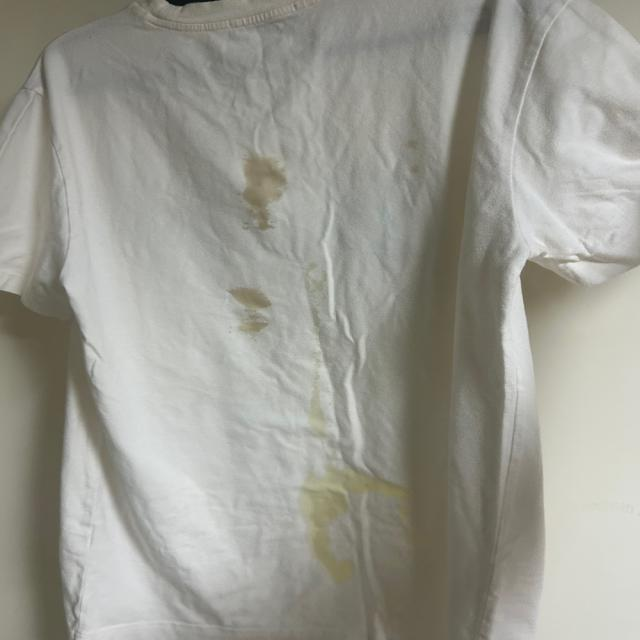stain: (218, 148, 302, 232), (295, 485, 364, 586), (332, 459, 407, 514), (222, 282, 268, 346), (300, 385, 342, 446), (402, 134, 434, 191), (284, 270, 329, 308)
